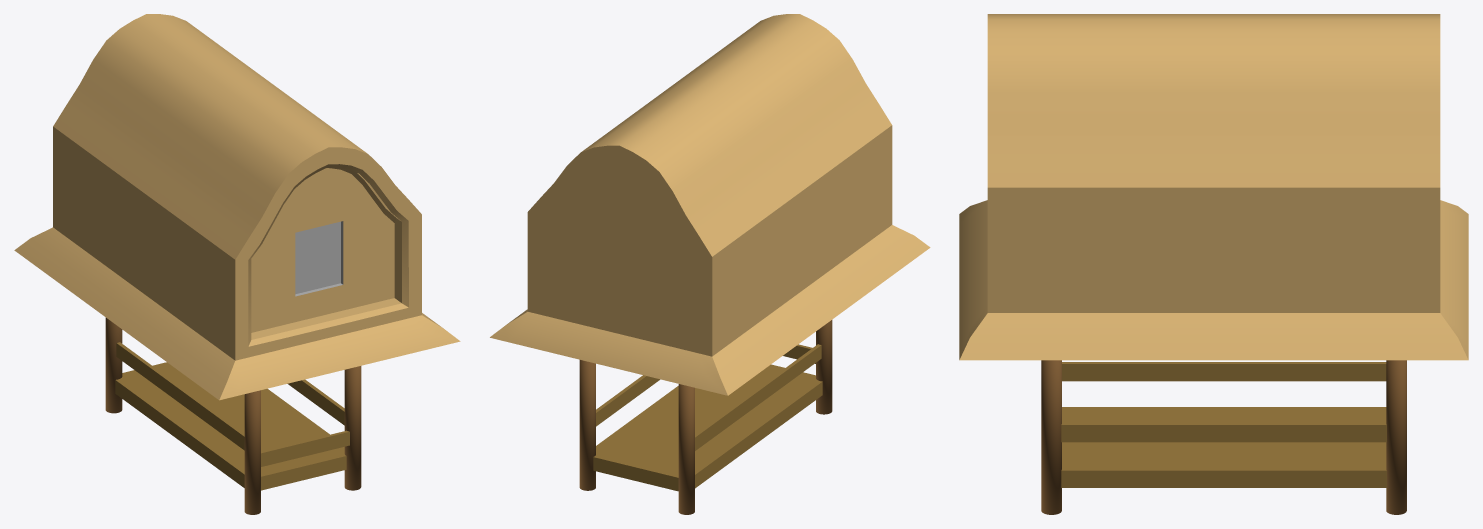
Rendered from LOMBOK.fbx.
3 renders of one model, left to right at view 1: azimuth 30°, elevation 25°; view 2: azimuth 150°, elevation 25°; view 3: azimuth 270°, elevation 25°, orthographic. The views are drawn at different scales.
Visible parts, largest first — view 1: Cube, Cube.001, Cylinder; view 2: Cube, Cube.001, Cylinder; view 3: Cube, Cube.001, Cylinder.
Boxes of the visible parts, x1,y1,x2,y2 form: Cube: (14,14,460,400); Cube.001: (115,342,349,490); Cylinder: (105,317,361,514); Cube: (490,14,930,395); Cube.001: (593,344,822,491); Cylinder: (579,320,832,514); Cube: (959,14,1468,360); Cube.001: (1061,362,1386,487); Cylinder: (1041,360,1406,514).
Bounding box in the file's own units: 360 × 528 × 530.
